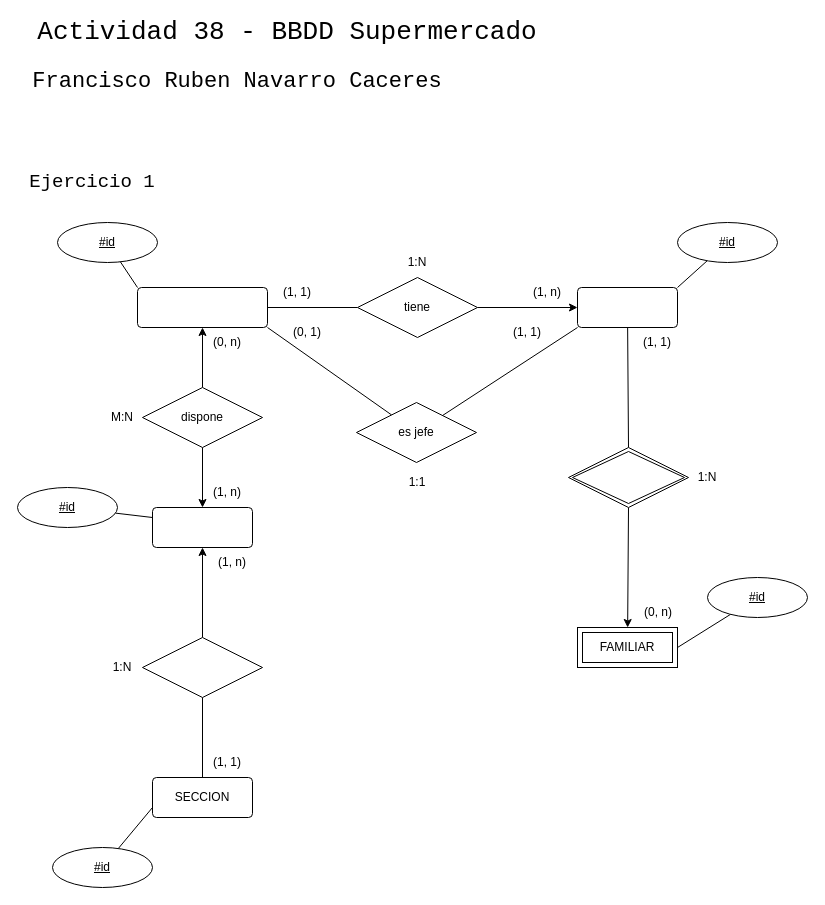
The diagram is 825 pixels wide and 905 high, and some of its shapes have lost their labels. Here are the shapes that lost their labels. From the top down, the centre of each, then its label:
At [202,307]: "SUPERMERCADO".
At [627,307]: "EMPLEADO".
At [628,477]: "E pertenece".
At [202,527]: "PRODUCTO".
At [202,667]: "pertenece".
